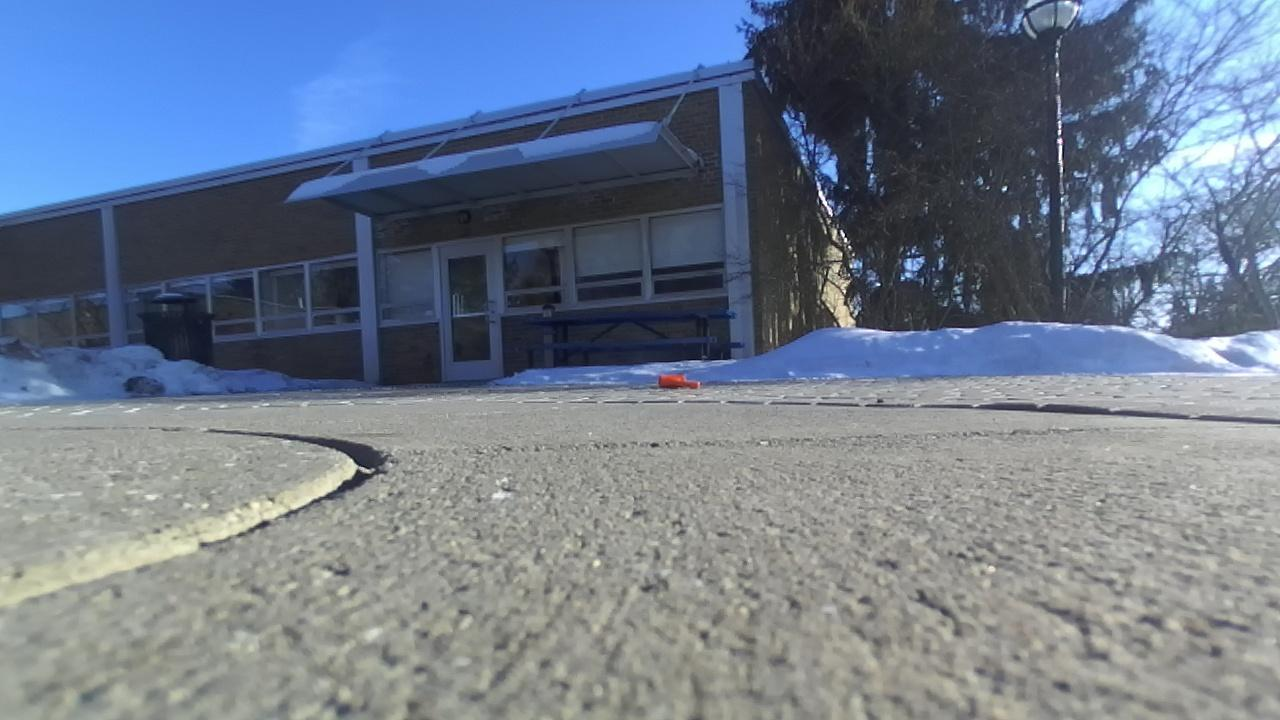mallet: (659, 375, 700, 387)
